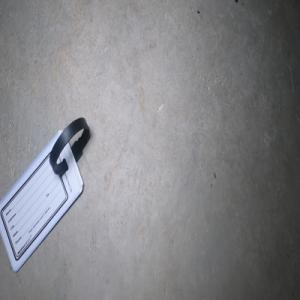LuggageTag: (0, 116, 90, 274)
